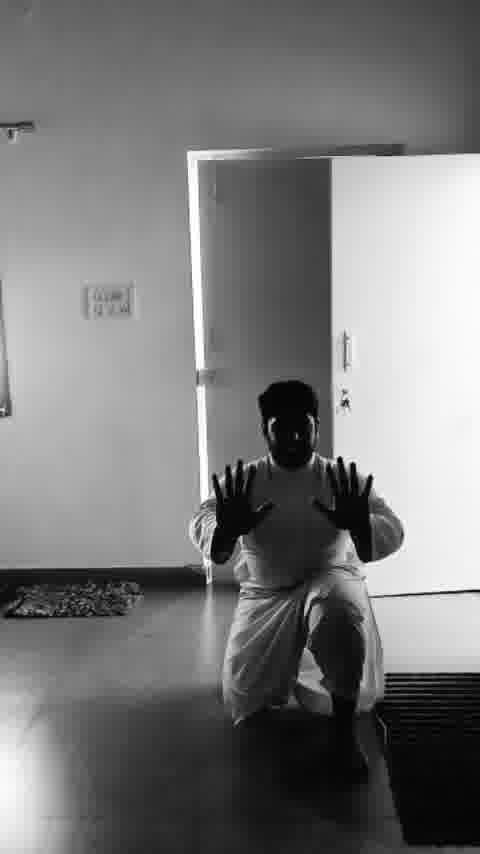duck: (192, 366, 414, 793)
